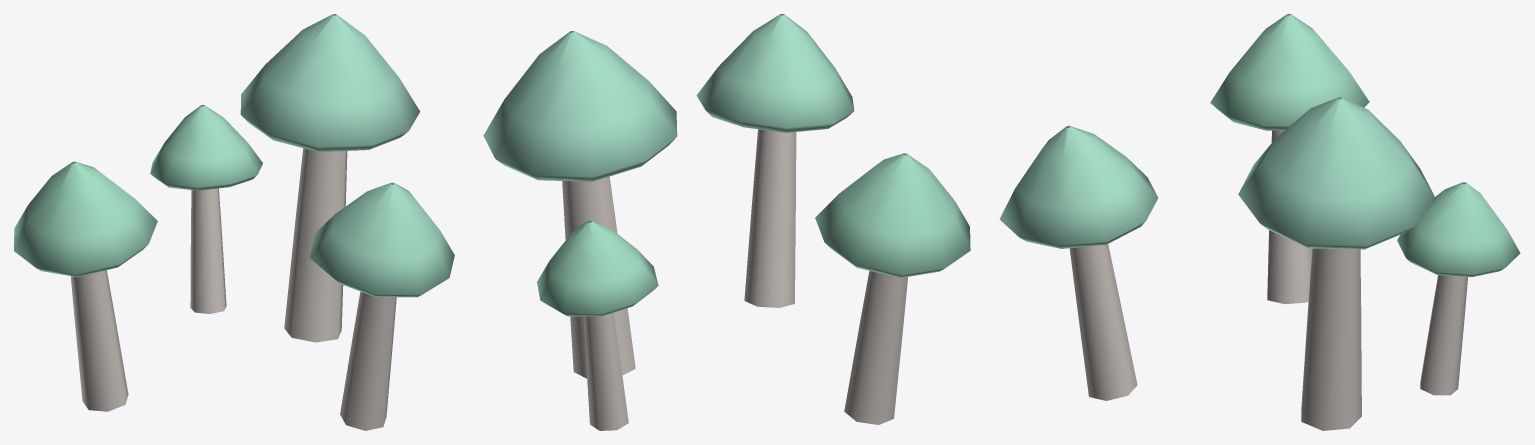
The model's file is ing_glowcap.gltf.
The picture shows the model from 3 angles, left to right: view 1: azimuth 30°, elevation 25°; view 2: azimuth 150°, elevation 25°; view 3: azimuth 270°, elevation 25°; orthographic projection. The views are drawn at different scales.
Parts seen in each view (by area): view 1: ing_glowcap; view 2: ing_glowcap; view 3: ing_glowcap.
Part boxes in pixels (x1=…): ing_glowcap: x1=14, y1=14, x2=454, y2=430; ing_glowcap: x1=483, y1=14, x2=970, y2=430; ing_glowcap: x1=999, y1=14, x2=1520, y2=430.
Size of what is drawn, in the model's own units: 0.2023 by 0.149 by 0.2103.
